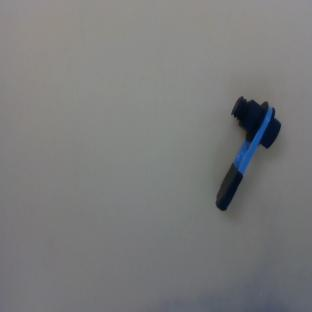part_1_bad: (209, 95, 285, 219)
